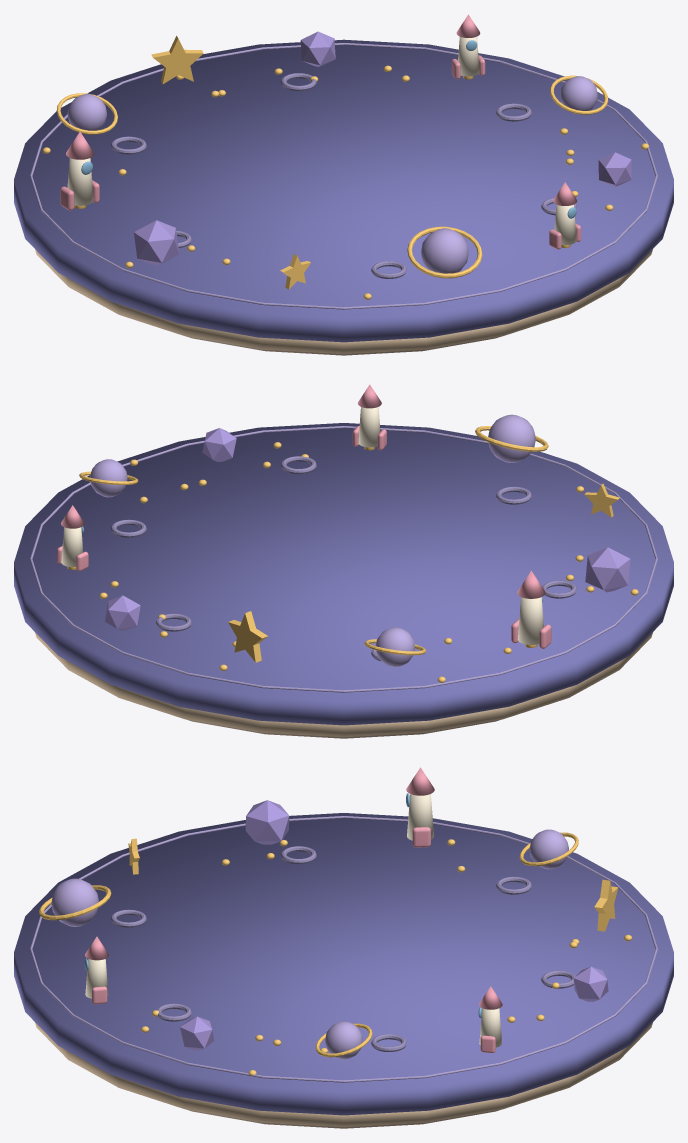
The model's file is world.glb.
3 renders of one model, top to bottom at view 1: azimuth 30°, elevation 25°; view 2: azimuth 150°, elevation 25°; view 3: azimuth 270°, elevation 25°, orthographic.
Visible parts, largest first — view 1: Cone, Cone.001, Torus.094, planet.003, rocket.002, planet.002, gem.002, planet.001, rocket.003, rocket.001, star.001, gem.001 (+3 smaller); view 2: Cone, Cone.001, Torus.094, planet.003, rocket.002, gem.002, rocket.003, planet.002, rocket.001, planet.001, star.001, gem.001 (+3 smaller); view 3: Cone, Cone.001, Torus.094, planet.003, rocket.002, gem.002, planet.002, planet.001, rocket.003, rocket.001, gem.001, gem.003 (+2 smaller).
Boxes of the visible parts, <box> form: Cone: <box>14,39,673,342</box>; Cone.001: <box>35,249,652,354</box>; Torus.094: <box>30,43,657,309</box>; planet.003: <box>407,226,482,278</box>; rocket.002: <box>60,131,99,210</box>; planet.002: <box>56,93,117,134</box>; gem.002: <box>134,220,179,265</box>; planet.001: <box>550,75,608,114</box>; rocket.003: <box>549,182,581,249</box>; rocket.001: <box>451,14,485,79</box>; star.001: <box>151,35,203,84</box>; gem.001: <box>300,31,335,66</box>; Cone: <box>14,423,673,725</box>; Cone.001: <box>35,632,652,737</box>; Torus.094: <box>30,426,657,692</box>; planet.003: <box>475,414,548,462</box>; rocket.002: <box>511,570,551,648</box>; gem.002: <box>585,547,630,592</box>; rocket.003: <box>352,384,386,450</box>; planet.002: <box>364,627,425,667</box>; rocket.001: <box>57,505,88,571</box>; planet.001: <box>79,459,138,497</box>; star.001: <box>228,611,267,662</box>; gem.001: <box>105,595,140,630</box>; Cone: <box>14,813,673,1115</box>; Cone.001: <box>35,1022,652,1127</box>; Torus.094: <box>30,816,657,1082</box>; planet.003: <box>39,878,111,926</box>; rocket.002: <box>406,767,434,847</box>; gem.002: <box>245,800,289,844</box>; planet.002: <box>519,829,578,869</box>; planet.001: <box>315,1021,372,1059</box>; rocket.003: <box>84,936,108,1004</box>; rocket.001: <box>478,986,502,1053</box>; gem.001: <box>573,966,608,1001</box>; gem.003: <box>180,1016,214,1050</box>.
Size of the model in its own units: 9.6 by 1.97 by 9.6.
